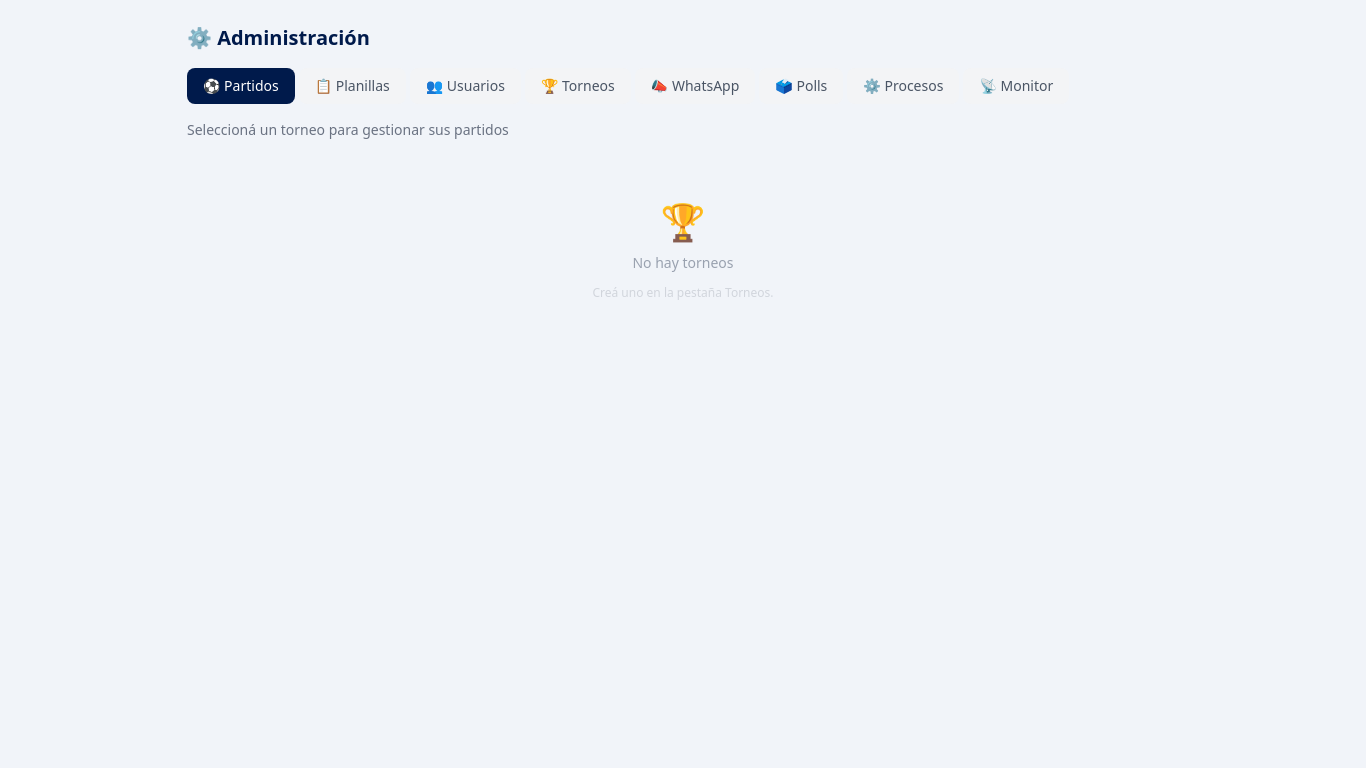
Test: Admin — paginación de usuarios › "Siguiente →" está disabled en la última página
Click the button "👥 Usuarios" at x=465, y=86, box [410, 68, 521, 104]
(page scrolled)
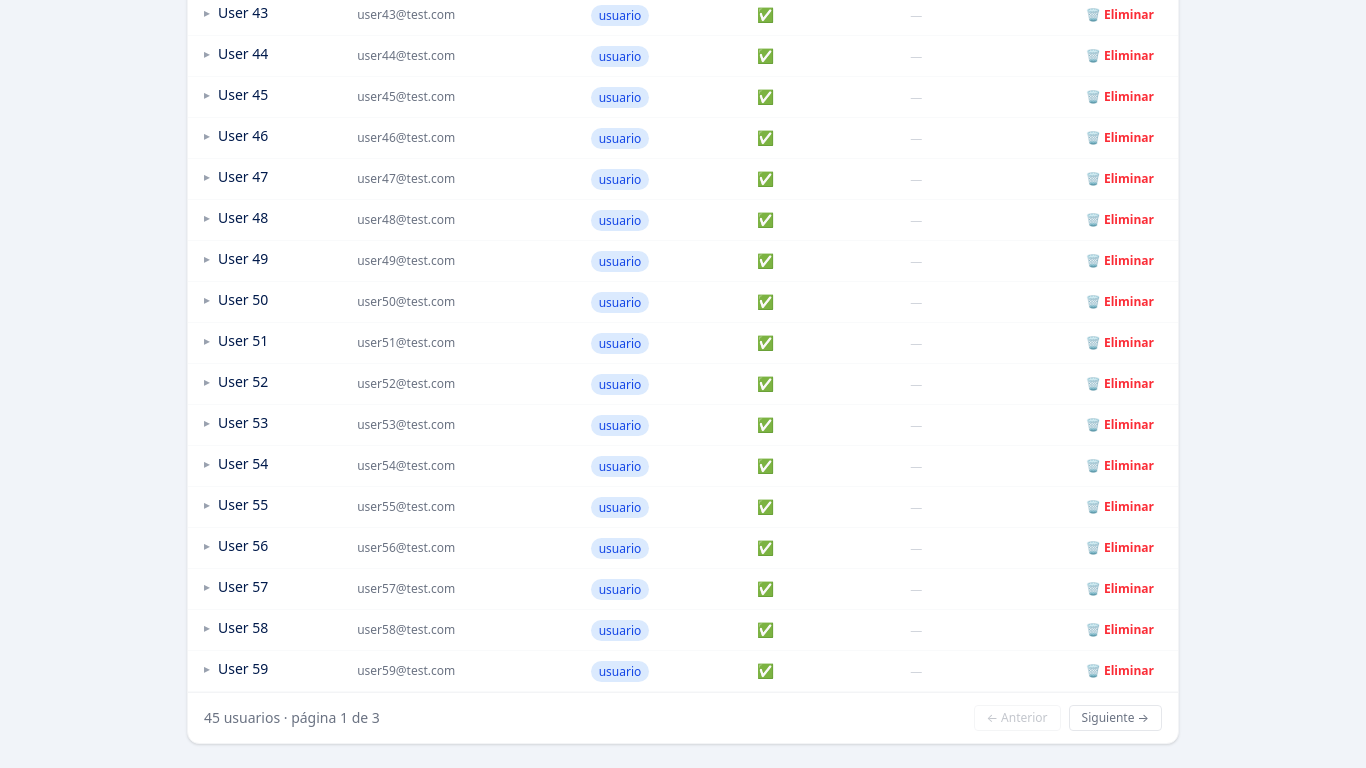
Expected: the text "45 usuarios · página 1 de 3" is shown, [204, 708, 380, 728]
Click the button "Siguiente →" at x=1115, y=718, box [1069, 705, 1162, 731]
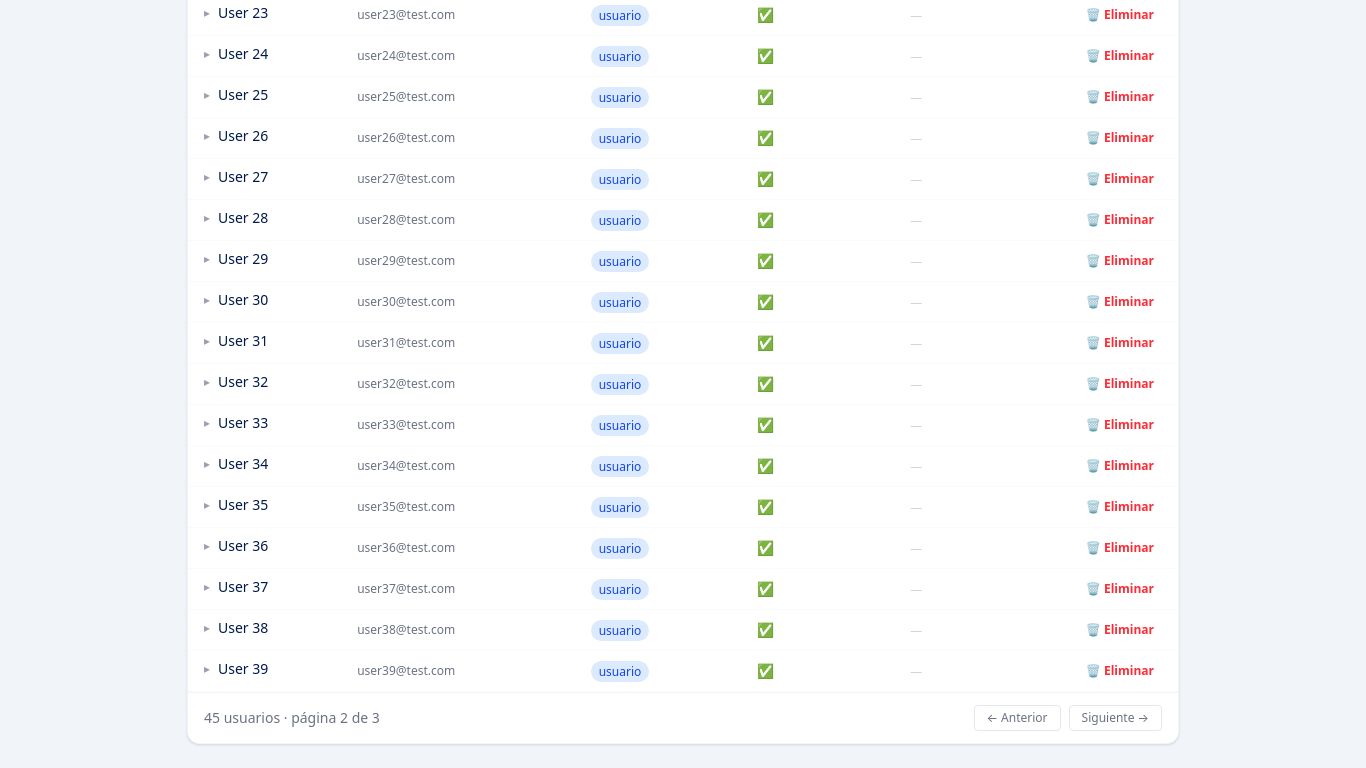
Expected: the text "45 usuarios · página 2 de 3" is shown, [204, 708, 380, 728]
Click the button "Siguiente →" at x=1115, y=718, box [1069, 705, 1162, 731]
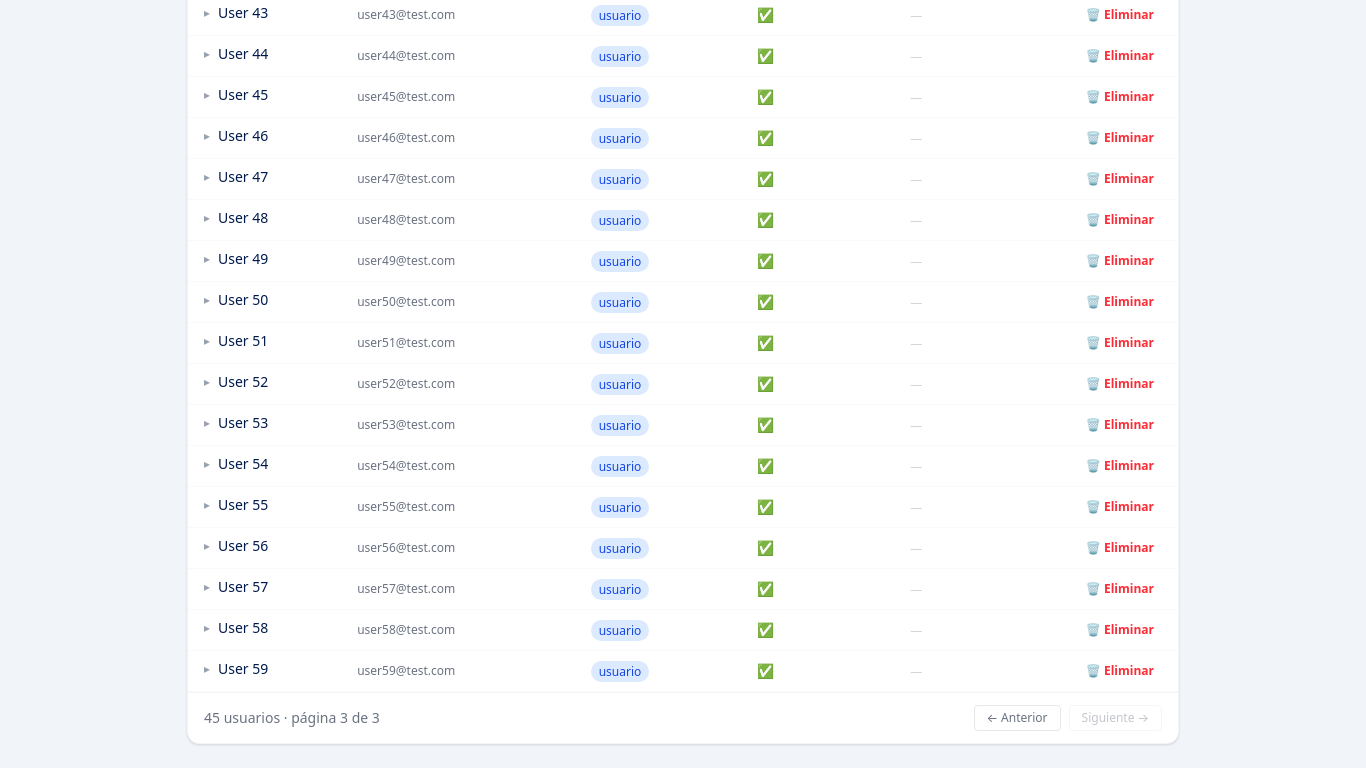
Expected: the button "← Anterior" is enabled, [974, 705, 1060, 731]
Expected: the text "45 usuarios · página 3 de 3" is shown, [204, 708, 380, 728]
Expected: the button "Siguiente →" is disabled, [1069, 705, 1162, 731]
